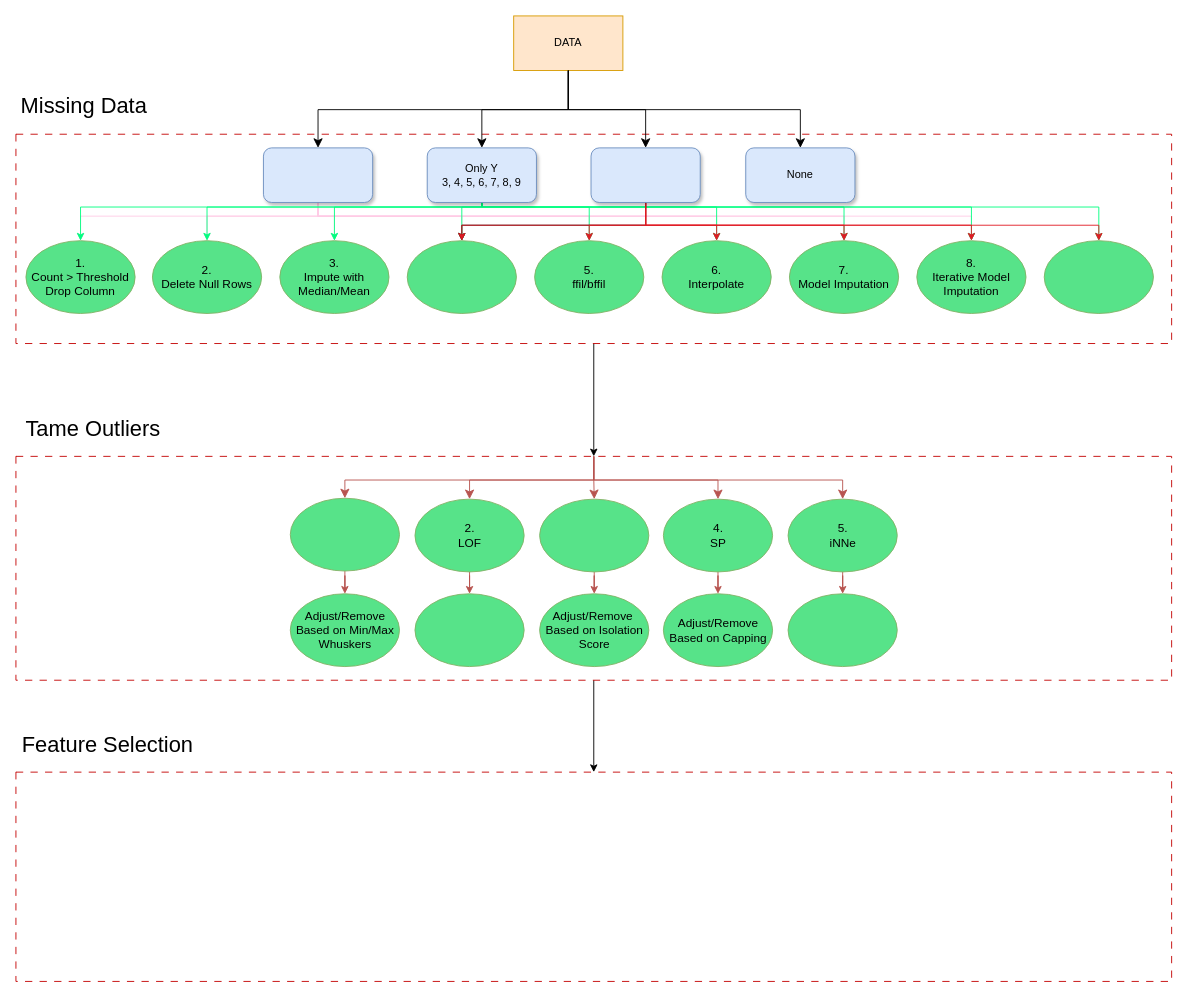
Image size: 1188x997. Some labels were removed from this diagram. Each missing label, with the centre of its shape:
1. IQR Method(1.5): (344,534)
3. iForest: (594,535)
4. Impute with class Mean/Median: (461,276)
9. KNN Imputation: (1098,276)
Adjust/Remove Based on Anamoly Score: (469,630)
Adjust/Remove Based on Distance Score: (842,630)
Only X 1, 2, 3, 4, 5, 6, 7, 8, 9: (318,176)
X & Y 2, 3, 4, 5, 6, 7, 8, 9: (646,176)
